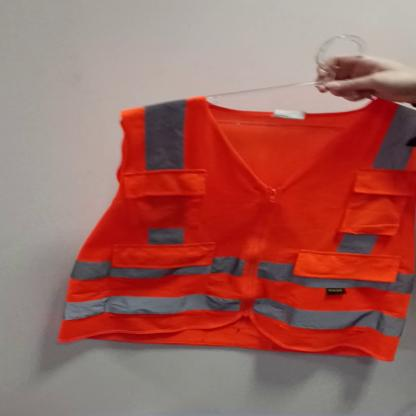colete: (59, 99, 416, 363)
